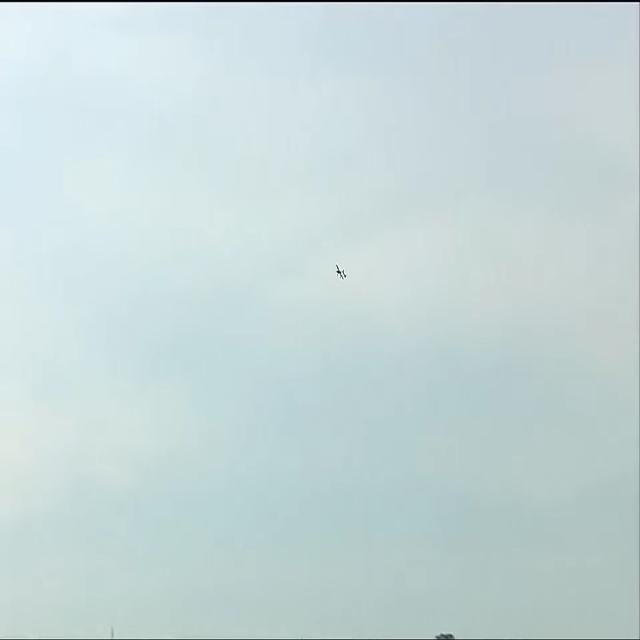iha: (334, 262, 348, 280)
